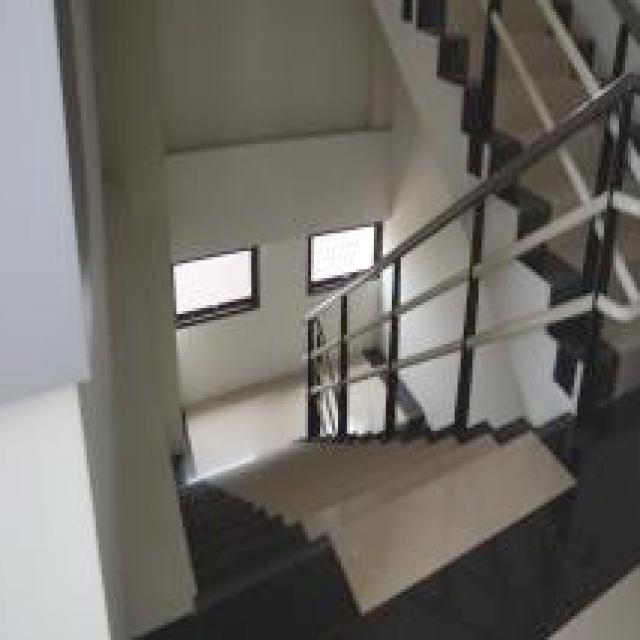downstair: (180, 437, 560, 640)
